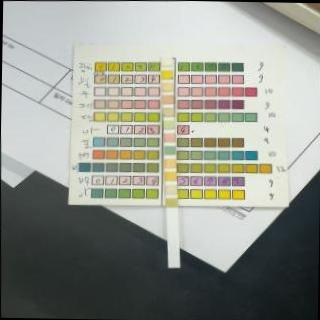mark: (163, 144, 176, 154), (163, 132, 176, 142), (165, 183, 176, 194), (164, 158, 176, 168), (162, 106, 174, 116), (162, 82, 174, 92), (166, 196, 177, 206), (164, 170, 175, 180), (162, 94, 173, 104), (162, 69, 172, 79), (162, 56, 172, 66), (163, 120, 174, 129)
